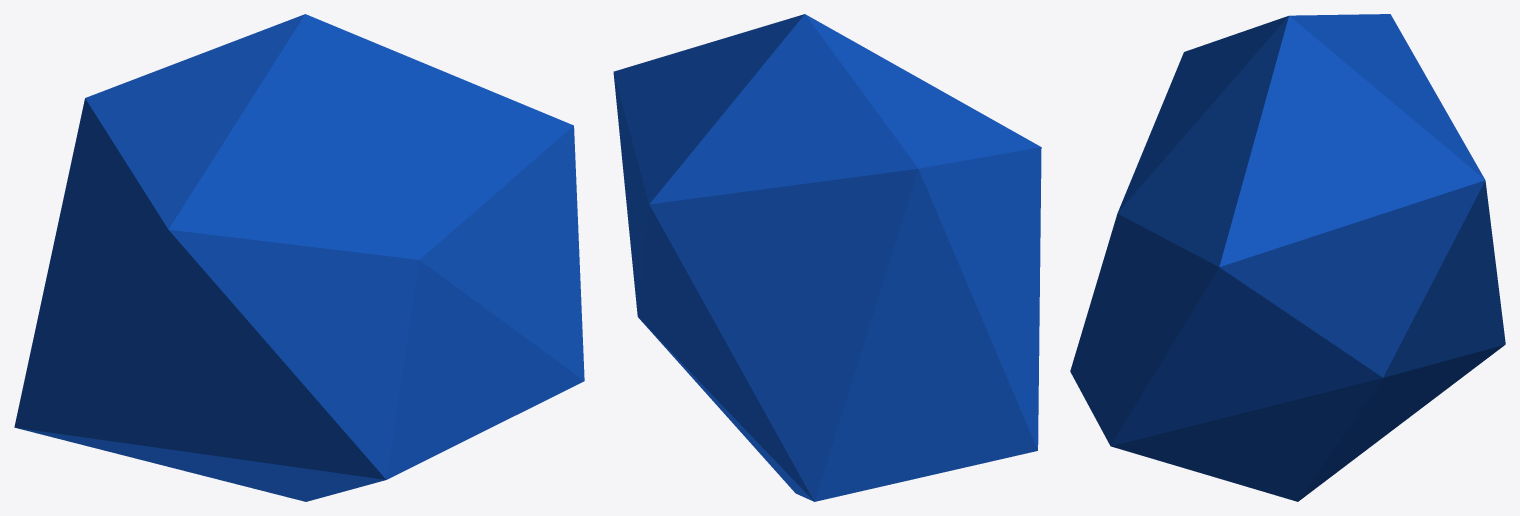
File: Sapphire.fbx
3 renders of one model, left to right at view 1: azimuth 30°, elevation 25°; view 2: azimuth 150°, elevation 25°; view 3: azimuth 270°, elevation 25°, orthographic. The views are drawn at different scales.
Parts seen in each view (by area): view 1: Sapphire; view 2: Sapphire; view 3: Sapphire.
Boxes of the visible parts, bbox=[...] form: Sapphire: bbox=[14, 14, 584, 501]; Sapphire: bbox=[613, 14, 1041, 501]; Sapphire: bbox=[1070, 14, 1505, 501].
Bounding box in the file's own units: 51.13 × 48.24 × 39.36.
